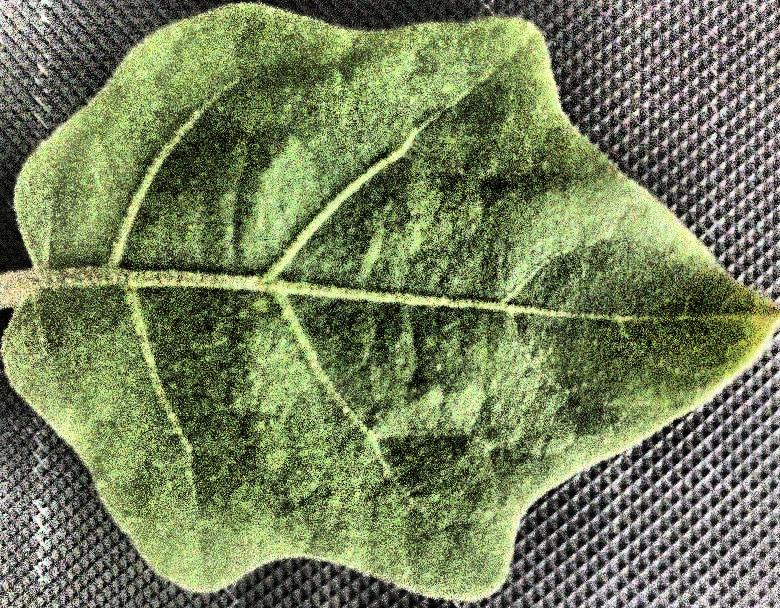HEALTHY: (1, 1, 780, 608)
